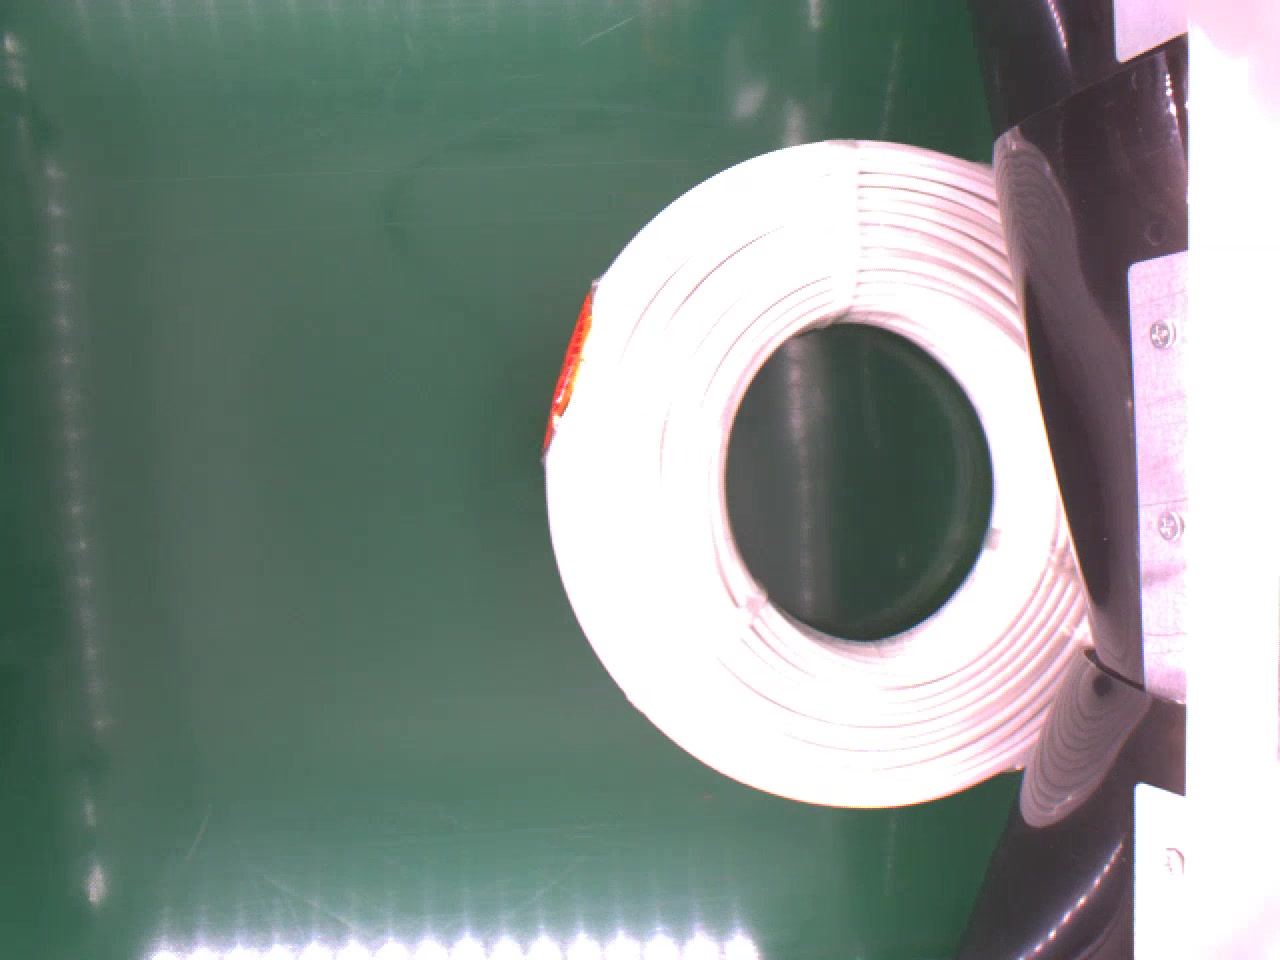white: (542, 137, 1095, 807)
